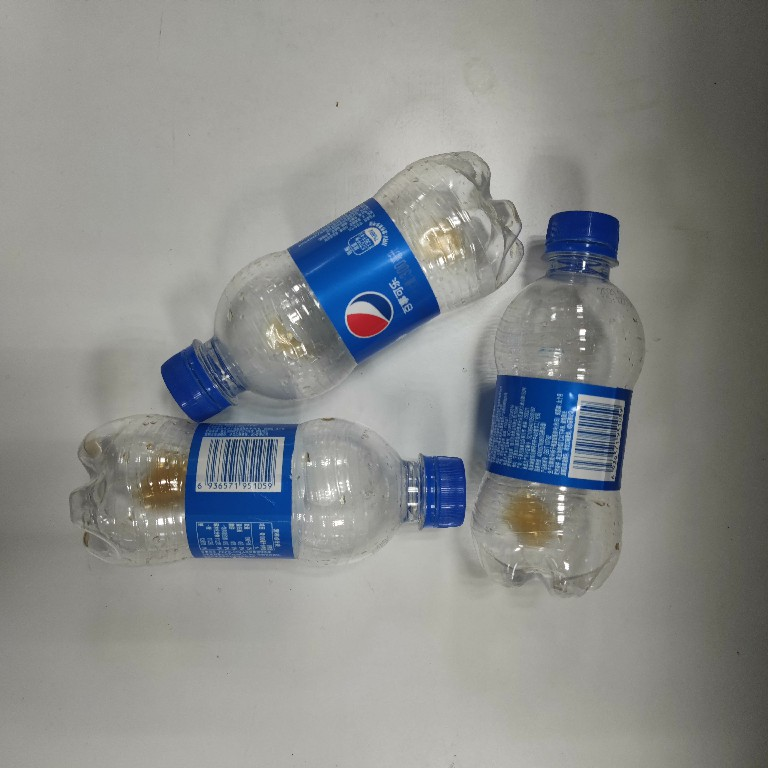bottle: (156, 148, 528, 427), (465, 206, 649, 601), (65, 413, 473, 576)
